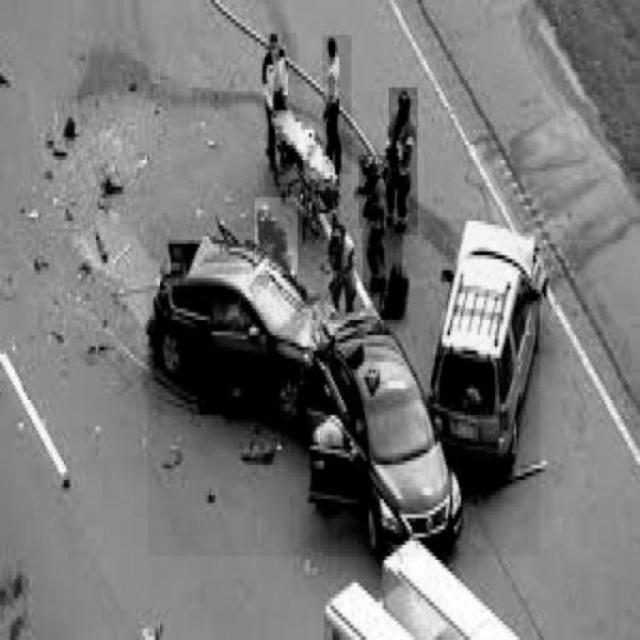accident: (147, 218, 540, 556)
person: (359, 156, 403, 292), (266, 33, 298, 163), (389, 88, 417, 235), (323, 35, 351, 173), (324, 229, 362, 327), (255, 198, 297, 275)
